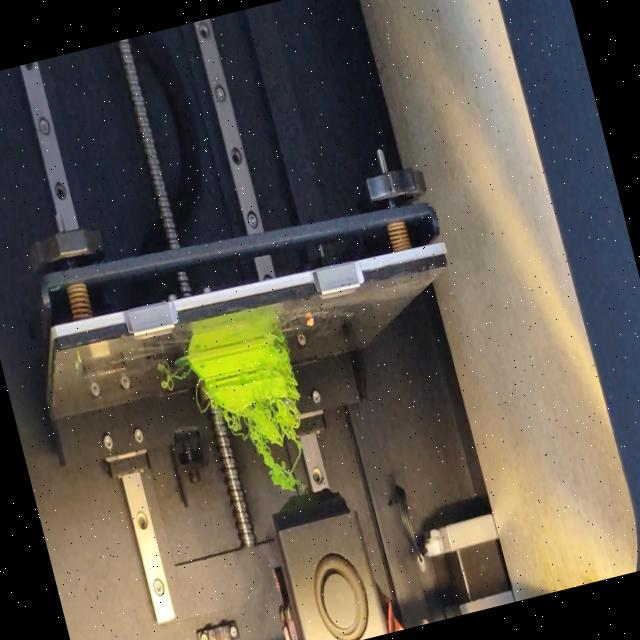spaghetti: (222, 392, 318, 506), (273, 331, 300, 394), (154, 363, 193, 393), (187, 378, 212, 421)
